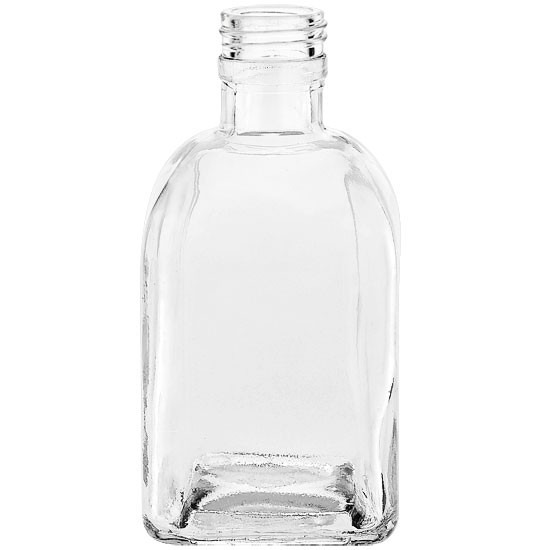container: (133, 6, 407, 545)
